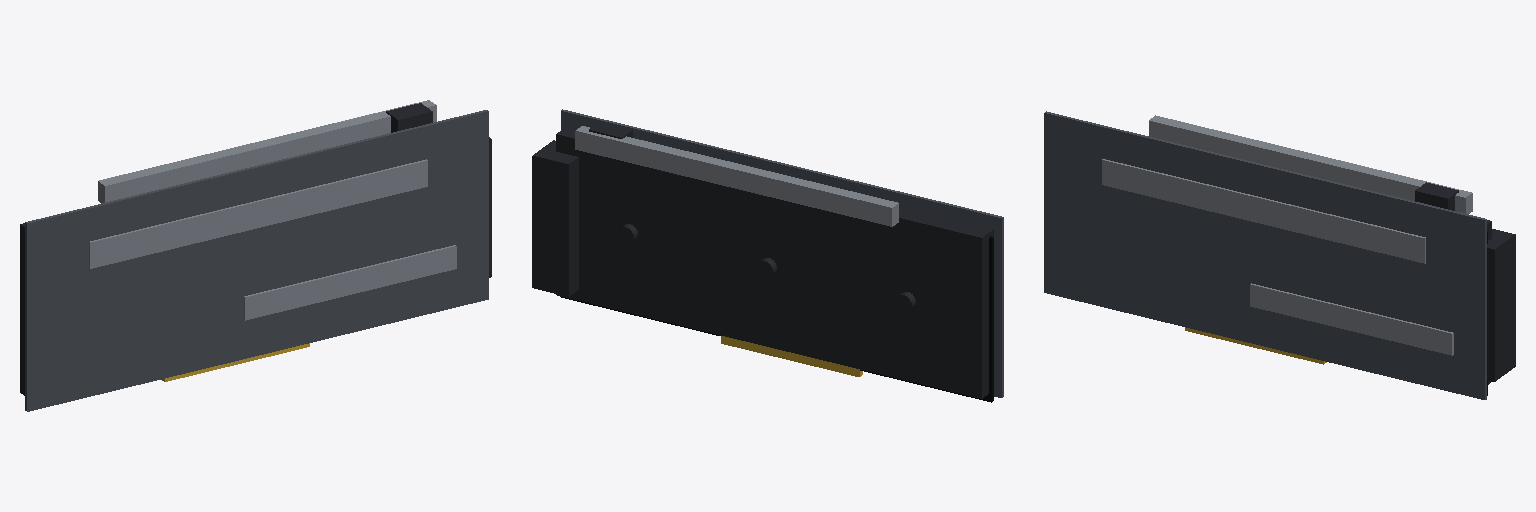
URDF robot description (graphics_card):
<robot name="graphics_card">
  <material name="shroud_graphite">
    <color rgba="0.14 0.15 0.16 1" />
    </material>
  <material name="fan_black">
    <color rgba="0.08 0.08 0.09 1" />
    </material>
  <material name="heatsink_dark">
    <color rgba="0.19 0.2 0.22 1" />
    </material>
  <material name="brushed_metal">
    <color rgba="0.62 0.64 0.68 1" />
    </material>
  <material name="backplate_metal">
    <color rgba="0.34 0.36 0.39 1" />
    </material>
  <material name="pcb_green">
    <color rgba="0.08 0.11 0.08 1" />
    </material>
  <material name="connector_gold">
    <color rgba="0.8 0.66 0.24 1" />
    </material>
  <material name="accent_silver">
    <color rgba="0.55 0.57 0.6 1" />
    </material>
  <link name="card_body">
    <inertial>
      <origin xyz="0 -0.002 0" rpy="0 0 0" />
      <mass value="1.35" />
      <inertia ixx="0.0018873" ixy="0" ixz="0" iyy="0.011911" iyz="0" izz="0.0102262" />
      </inertial>
    <visual>
      <origin xyz="0 0.004 0" rpy="0 0 0" />
      <geometry>
        <mesh filename="meshes/graphics_card_shroud.obj" />
        </geometry>
      <material name="shroud_graphite" />
      </visual>
    <visual>
      <origin xyz="0 -0.006 0" rpy="0 0 0" />
      <geometry>
        <box size="0.282 0.014 0.102" />
        </geometry>
      <material name="heatsink_dark" />
      </visual>
    <visual>
      <origin xyz="0 -0.0081 -0.004" rpy="0 0 0" />
      <geometry>
        <box size="0.286 0.0022 0.104" />
        </geometry>
      <material name="pcb_green" />
      </visual>
    <visual>
      <origin xyz="0 -0.0141 0.002" rpy="0 0 0" />
      <geometry>
        <box size="0.292 0.0022 0.114" />
        </geometry>
      <material name="backplate_metal" />
      </visual>
    <visual>
      <origin xyz="0 -0.0152 0.031" rpy="0 0 0" />
      <geometry>
        <box size="0.214 0.003 0.016" />
        </geometry>
      <material name="accent_silver" />
      </visual>
    <visual>
      <origin xyz="0.058 -0.0152 -0.024" rpy="0 0 0" />
      <geometry>
        <box size="0.134 0.003 0.014" />
        </geometry>
      <material name="accent_silver" />
      </visual>
    <visual>
      <origin xyz="0.018 0.006 0.055" rpy="0 0 0" />
      <geometry>
        <box size="0.21 0.008 0.012" />
        </geometry>
      <material name="accent_silver" />
      </visual>
    <visual>
      <origin xyz="0.105 0.0005 0.056" rpy="0 0 0" />
      <geometry>
        <box size="0.022 0.013 0.012" />
        </geometry>
      <material name="heatsink_dark" />
      </visual>
    <visual>
      <origin xyz="0.138 0.0005 -0.002" rpy="0 0 0" />
      <geometry>
        <box size="0.024 0.024 0.084" />
        </geometry>
      <material name="heatsink_dark" />
      </visual>
    <visual>
      <origin xyz="-0.01 -0.0081 -0.055" rpy="0 0 0" />
      <geometry>
        <box size="0.092 0.004 0.01" />
        </geometry>
      <material name="connector_gold" />
      </visual>
    <visual>
      <origin xyz="-0.092 -0.001 0" rpy="-1.5708 0 0" />
      <geometry>
        <cylinder radius="0.0055" length="0.014" />
        </geometry>
      <material name="heatsink_dark" />
      </visual>
    <visual>
      <origin xyz="0 -0.001 0" rpy="-1.5708 0 0" />
      <geometry>
        <cylinder radius="0.0055" length="0.014" />
        </geometry>
      <material name="heatsink_dark" />
      </visual>
    <visual>
      <origin xyz="0.092 -0.001 0" rpy="-1.5708 0 0" />
      <geometry>
        <cylinder radius="0.0055" length="0.014" />
        </geometry>
      <material name="heatsink_dark" />
      </visual>
    <collision name="card_body__visual_1__hull_001">
      <origin xyz="0 0.004 0" rpy="0 0 0" />
      <geometry>
        <mesh filename="meshes/collision/cache/graphics_card_shroud__4e14d90d67d21ff0__hull_001.obj" />
        </geometry>
      </collision>
    <collision name="card_body__visual_2">
      <origin xyz="0 -0.006 0" rpy="0 0 0" />
      <geometry>
        <box size="0.282 0.014 0.102" />
        </geometry>
      </collision>
    <collision name="card_body__visual_3">
      <origin xyz="0 -0.0081 -0.004" rpy="0 0 0" />
      <geometry>
        <box size="0.286 0.0022 0.104" />
        </geometry>
      </collision>
    <collision name="card_body__visual_4">
      <origin xyz="0 -0.0141 0.002" rpy="0 0 0" />
      <geometry>
        <box size="0.292 0.0022 0.114" />
        </geometry>
      </collision>
    <collision name="card_body__visual_5">
      <origin xyz="0 -0.0152 0.031" rpy="0 0 0" />
      <geometry>
        <box size="0.214 0.003 0.016" />
        </geometry>
      </collision>
    <collision name="card_body__visual_6">
      <origin xyz="0.058 -0.0152 -0.024" rpy="0 0 0" />
      <geometry>
        <box size="0.134 0.003 0.014" />
        </geometry>
      </collision>
    <collision name="card_body__visual_7">
      <origin xyz="0.018 0.006 0.055" rpy="0 0 0" />
      <geometry>
        <box size="0.21 0.008 0.012" />
        </geometry>
      </collision>
    <collision name="card_body__visual_8">
      <origin xyz="0.105 0.0005 0.056" rpy="0 0 0" />
      <geometry>
        <box size="0.022 0.013 0.012" />
        </geometry>
      </collision>
    <collision name="card_body__visual_9">
      <origin xyz="0.138 0.0005 -0.002" rpy="0 0 0" />
      <geometry>
        <box size="0.024 0.024 0.084" />
        </geometry>
      </collision>
    <collision name="card_body__visual_10">
      <origin xyz="-0.01 -0.0081 -0.055" rpy="0 0 0" />
      <geometry>
        <box size="0.092 0.004 0.01" />
        </geometry>
      </collision>
    <collision name="card_body__visual_11">
      <origin xyz="-0.092 -0.001 0" rpy="-1.5708 0 0" />
      <geometry>
        <cylinder radius="0.0055" length="0.014" />
        </geometry>
      </collision>
    <collision name="card_body__visual_12">
      <origin xyz="0 -0.001 0" rpy="-1.5708 0 0" />
      <geometry>
        <cylinder radius="0.0055" length="0.014" />
        </geometry>
      </collision>
    <collision name="card_body__visual_13">
      <origin xyz="0.092 -0.001 0" rpy="-1.5708 0 0" />
      <geometry>
        <cylinder radius="0.0055" length="0.014" />
        </geometry>
      </collision>
    </link>
  <link name="io_bracket">
    <inertial>
      <mass value="0.08" />
      <inertia ixx="0.000100507" ixy="0" ixz="0" iyy="9.60267e-05" iyz="0" izz="4.53333e-06" />
      </inertial>
    <visual>
      <geometry>
        <mesh filename="meshes/graphics_card_bracket.obj" />
        </geometry>
      <material name="brushed_metal" />
      </visual>
    <collision name="io_bracket__visual_1__hull_001">
      <geometry>
        <mesh filename="meshes/collision/cache/graphics_card_bracket__cac1435064bebe9e__hull_001.obj" />
        </geometry>
      </collision>
    <collision name="io_bracket__visual_1__hull_002">
      <geometry>
        <mesh filename="meshes/collision/cache/graphics_card_bracket__cac1435064bebe9e__hull_002.obj" />
        </geometry>
      </collision>
    <collision name="io_bracket__visual_1__hull_003">
      <geometry>
        <mesh filename="meshes/collision/cache/graphics_card_bracket__cac1435064bebe9e__hull_003.obj" />
        </geometry>
      </collision>
    <collision name="io_bracket__visual_1__hull_004">
      <geometry>
        <mesh filename="meshes/collision/cache/graphics_card_bracket__cac1435064bebe9e__hull_004.obj" />
        </geometry>
      </collision>
    <collision name="io_bracket__visual_1__hull_005">
      <geometry>
        <mesh filename="meshes/collision/cache/graphics_card_bracket__cac1435064bebe9e__hull_005.obj" />
        </geometry>
      </collision>
    <collision name="io_bracket__visual_1__hull_006">
      <geometry>
        <mesh filename="meshes/collision/cache/graphics_card_bracket__cac1435064bebe9e__hull_006.obj" />
        </geometry>
      </collision>
    <collision name="io_bracket__visual_1__hull_007">
      <geometry>
        <mesh filename="meshes/collision/cache/graphics_card_bracket__cac1435064bebe9e__hull_007.obj" />
        </geometry>
      </collision>
    <collision name="io_bracket__visual_1__hull_008">
      <geometry>
        <mesh filename="meshes/collision/cache/graphics_card_bracket__cac1435064bebe9e__hull_008.obj" />
        </geometry>
      </collision>
    </link>
  <link name="fan_left">
    <inertial>
      <origin xyz="0 0 0" rpy="-1.5708 0 0" />
      <mass value="0.05" />
      <inertia ixx="2.08406e-05" ixy="0" ixz="0" iyy="2.08406e-05" iyz="0" izz="4.10063e-05" />
      </inertial>
    <visual>
      <geometry>
        <mesh filename="meshes/graphics_card_fan.obj" />
        </geometry>
      <material name="fan_black" />
      </visual>
    <collision name="fan_left__visual_1__hull_001">
      <geometry>
        <mesh filename="meshes/collision/cache/graphics_card_fan__be805ed2de82bf0e__hull_001.obj" />
        </geometry>
      </collision>
    <collision name="fan_left__visual_1__hull_002">
      <geometry>
        <mesh filename="meshes/collision/cache/graphics_card_fan__be805ed2de82bf0e__hull_002.obj" />
        </geometry>
      </collision>
    <collision name="fan_left__visual_1__hull_003">
      <geometry>
        <mesh filename="meshes/collision/cache/graphics_card_fan__be805ed2de82bf0e__hull_003.obj" />
        </geometry>
      </collision>
    <collision name="fan_left__visual_1__hull_004">
      <geometry>
        <mesh filename="meshes/collision/cache/graphics_card_fan__be805ed2de82bf0e__hull_004.obj" />
        </geometry>
      </collision>
    <collision name="fan_left__visual_1__hull_005">
      <geometry>
        <mesh filename="meshes/collision/cache/graphics_card_fan__be805ed2de82bf0e__hull_005.obj" />
        </geometry>
      </collision>
    <collision name="fan_left__visual_1__hull_006">
      <geometry>
        <mesh filename="meshes/collision/cache/graphics_card_fan__be805ed2de82bf0e__hull_006.obj" />
        </geometry>
      </collision>
    <collision name="fan_left__visual_1__hull_007">
      <geometry>
        <mesh filename="meshes/collision/cache/graphics_card_fan__be805ed2de82bf0e__hull_007.obj" />
        </geometry>
      </collision>
    <collision name="fan_left__visual_1__hull_008">
      <geometry>
        <mesh filename="meshes/collision/cache/graphics_card_fan__be805ed2de82bf0e__hull_008.obj" />
        </geometry>
      </collision>
    <collision name="fan_left__visual_1__hull_009">
      <geometry>
        <mesh filename="meshes/collision/cache/graphics_card_fan__be805ed2de82bf0e__hull_009.obj" />
        </geometry>
      </collision>
    <collision name="fan_left__visual_1__hull_010">
      <geometry>
        <mesh filename="meshes/collision/cache/graphics_card_fan__be805ed2de82bf0e__hull_010.obj" />
        </geometry>
      </collision>
    <collision name="fan_left__visual_1__hull_011">
      <geometry>
        <mesh filename="meshes/collision/cache/graphics_card_fan__be805ed2de82bf0e__hull_011.obj" />
        </geometry>
      </collision>
    <collision name="fan_left__visual_1__hull_012">
      <geometry>
        <mesh filename="meshes/collision/cache/graphics_card_fan__be805ed2de82bf0e__hull_012.obj" />
        </geometry>
      </collision>
    <collision name="fan_left__visual_1__hull_013">
      <geometry>
        <mesh filename="meshes/collision/cache/graphics_card_fan__be805ed2de82bf0e__hull_013.obj" />
        </geometry>
      </collision>
    <collision name="fan_left__visual_1__hull_014">
      <geometry>
        <mesh filename="meshes/collision/cache/graphics_card_fan__be805ed2de82bf0e__hull_014.obj" />
        </geometry>
      </collision>
    <collision name="fan_left__visual_1__hull_015">
      <geometry>
        <mesh filename="meshes/collision/cache/graphics_card_fan__be805ed2de82bf0e__hull_015.obj" />
        </geometry>
      </collision>
    <collision name="fan_left__visual_1__hull_016">
      <geometry>
        <mesh filename="meshes/collision/cache/graphics_card_fan__be805ed2de82bf0e__hull_016.obj" />
        </geometry>
      </collision>
    </link>
  <link name="fan_center">
    <inertial>
      <origin xyz="0 0 0" rpy="-1.5708 0 0" />
      <mass value="0.05" />
      <inertia ixx="2.08406e-05" ixy="0" ixz="0" iyy="2.08406e-05" iyz="0" izz="4.10063e-05" />
      </inertial>
    <visual>
      <geometry>
        <mesh filename="meshes/graphics_card_fan.obj" />
        </geometry>
      <material name="fan_black" />
      </visual>
    <collision name="fan_center__visual_1__hull_001">
      <geometry>
        <mesh filename="meshes/collision/cache/graphics_card_fan__be805ed2de82bf0e__hull_001.obj" />
        </geometry>
      </collision>
    <collision name="fan_center__visual_1__hull_002">
      <geometry>
        <mesh filename="meshes/collision/cache/graphics_card_fan__be805ed2de82bf0e__hull_002.obj" />
        </geometry>
      </collision>
    <collision name="fan_center__visual_1__hull_003">
      <geometry>
        <mesh filename="meshes/collision/cache/graphics_card_fan__be805ed2de82bf0e__hull_003.obj" />
        </geometry>
      </collision>
    <collision name="fan_center__visual_1__hull_004">
      <geometry>
        <mesh filename="meshes/collision/cache/graphics_card_fan__be805ed2de82bf0e__hull_004.obj" />
        </geometry>
      </collision>
    <collision name="fan_center__visual_1__hull_005">
      <geometry>
        <mesh filename="meshes/collision/cache/graphics_card_fan__be805ed2de82bf0e__hull_005.obj" />
        </geometry>
      </collision>
    <collision name="fan_center__visual_1__hull_006">
      <geometry>
        <mesh filename="meshes/collision/cache/graphics_card_fan__be805ed2de82bf0e__hull_006.obj" />
        </geometry>
      </collision>
    <collision name="fan_center__visual_1__hull_007">
      <geometry>
        <mesh filename="meshes/collision/cache/graphics_card_fan__be805ed2de82bf0e__hull_007.obj" />
        </geometry>
      </collision>
    <collision name="fan_center__visual_1__hull_008">
      <geometry>
        <mesh filename="meshes/collision/cache/graphics_card_fan__be805ed2de82bf0e__hull_008.obj" />
        </geometry>
      </collision>
    <collision name="fan_center__visual_1__hull_009">
      <geometry>
        <mesh filename="meshes/collision/cache/graphics_card_fan__be805ed2de82bf0e__hull_009.obj" />
        </geometry>
      </collision>
    <collision name="fan_center__visual_1__hull_010">
      <geometry>
        <mesh filename="meshes/collision/cache/graphics_card_fan__be805ed2de82bf0e__hull_010.obj" />
        </geometry>
      </collision>
    <collision name="fan_center__visual_1__hull_011">
      <geometry>
        <mesh filename="meshes/collision/cache/graphics_card_fan__be805ed2de82bf0e__hull_011.obj" />
        </geometry>
      </collision>
    <collision name="fan_center__visual_1__hull_012">
      <geometry>
        <mesh filename="meshes/collision/cache/graphics_card_fan__be805ed2de82bf0e__hull_012.obj" />
        </geometry>
      </collision>
    <collision name="fan_center__visual_1__hull_013">
      <geometry>
        <mesh filename="meshes/collision/cache/graphics_card_fan__be805ed2de82bf0e__hull_013.obj" />
        </geometry>
      </collision>
    <collision name="fan_center__visual_1__hull_014">
      <geometry>
        <mesh filename="meshes/collision/cache/graphics_card_fan__be805ed2de82bf0e__hull_014.obj" />
        </geometry>
      </collision>
    <collision name="fan_center__visual_1__hull_015">
      <geometry>
        <mesh filename="meshes/collision/cache/graphics_card_fan__be805ed2de82bf0e__hull_015.obj" />
        </geometry>
      </collision>
    <collision name="fan_center__visual_1__hull_016">
      <geometry>
        <mesh filename="meshes/collision/cache/graphics_card_fan__be805ed2de82bf0e__hull_016.obj" />
        </geometry>
      </collision>
    </link>
  <link name="fan_right">
    <inertial>
      <origin xyz="0 0 0" rpy="-1.5708 0 0" />
      <mass value="0.05" />
      <inertia ixx="2.08406e-05" ixy="0" ixz="0" iyy="2.08406e-05" iyz="0" izz="4.10063e-05" />
      </inertial>
    <visual>
      <geometry>
        <mesh filename="meshes/graphics_card_fan.obj" />
        </geometry>
      <material name="fan_black" />
      </visual>
    <collision name="fan_right__visual_1__hull_001">
      <geometry>
        <mesh filename="meshes/collision/cache/graphics_card_fan__be805ed2de82bf0e__hull_001.obj" />
        </geometry>
      </collision>
    <collision name="fan_right__visual_1__hull_002">
      <geometry>
        <mesh filename="meshes/collision/cache/graphics_card_fan__be805ed2de82bf0e__hull_002.obj" />
        </geometry>
      </collision>
    <collision name="fan_right__visual_1__hull_003">
      <geometry>
        <mesh filename="meshes/collision/cache/graphics_card_fan__be805ed2de82bf0e__hull_003.obj" />
        </geometry>
      </collision>
    <collision name="fan_right__visual_1__hull_004">
      <geometry>
        <mesh filename="meshes/collision/cache/graphics_card_fan__be805ed2de82bf0e__hull_004.obj" />
        </geometry>
      </collision>
    <collision name="fan_right__visual_1__hull_005">
      <geometry>
        <mesh filename="meshes/collision/cache/graphics_card_fan__be805ed2de82bf0e__hull_005.obj" />
        </geometry>
      </collision>
    <collision name="fan_right__visual_1__hull_006">
      <geometry>
        <mesh filename="meshes/collision/cache/graphics_card_fan__be805ed2de82bf0e__hull_006.obj" />
        </geometry>
      </collision>
    <collision name="fan_right__visual_1__hull_007">
      <geometry>
        <mesh filename="meshes/collision/cache/graphics_card_fan__be805ed2de82bf0e__hull_007.obj" />
        </geometry>
      </collision>
    <collision name="fan_right__visual_1__hull_008">
      <geometry>
        <mesh filename="meshes/collision/cache/graphics_card_fan__be805ed2de82bf0e__hull_008.obj" />
        </geometry>
      </collision>
    <collision name="fan_right__visual_1__hull_009">
      <geometry>
        <mesh filename="meshes/collision/cache/graphics_card_fan__be805ed2de82bf0e__hull_009.obj" />
        </geometry>
      </collision>
    <collision name="fan_right__visual_1__hull_010">
      <geometry>
        <mesh filename="meshes/collision/cache/graphics_card_fan__be805ed2de82bf0e__hull_010.obj" />
        </geometry>
      </collision>
    <collision name="fan_right__visual_1__hull_011">
      <geometry>
        <mesh filename="meshes/collision/cache/graphics_card_fan__be805ed2de82bf0e__hull_011.obj" />
        </geometry>
      </collision>
    <collision name="fan_right__visual_1__hull_012">
      <geometry>
        <mesh filename="meshes/collision/cache/graphics_card_fan__be805ed2de82bf0e__hull_012.obj" />
        </geometry>
      </collision>
    <collision name="fan_right__visual_1__hull_013">
      <geometry>
        <mesh filename="meshes/collision/cache/graphics_card_fan__be805ed2de82bf0e__hull_013.obj" />
        </geometry>
      </collision>
    <collision name="fan_right__visual_1__hull_014">
      <geometry>
        <mesh filename="meshes/collision/cache/graphics_card_fan__be805ed2de82bf0e__hull_014.obj" />
        </geometry>
      </collision>
    <collision name="fan_right__visual_1__hull_015">
      <geometry>
        <mesh filename="meshes/collision/cache/graphics_card_fan__be805ed2de82bf0e__hull_015.obj" />
        </geometry>
      </collision>
    <collision name="fan_right__visual_1__hull_016">
      <geometry>
        <mesh filename="meshes/collision/cache/graphics_card_fan__be805ed2de82bf0e__hull_016.obj" />
        </geometry>
      </collision>
    </link>
  <joint name="body_to_io_bracket" type="fixed">
    <origin xyz="-0.151 0 0" rpy="0 0 0" />
    <parent link="card_body" />
    <child link="io_bracket" />
    </joint>
  <joint name="body_to_fan_left" type="continuous">
    <origin xyz="-0.092 0.004 0" rpy="0 0 0" />
    <parent link="card_body" />
    <child link="fan_left" />
    <axis xyz="0 1 0" />
    <limit effort="0.2" velocity="220" />
    </joint>
  <joint name="body_to_fan_center" type="continuous">
    <origin xyz="0 0.004 0" rpy="0 0 0" />
    <parent link="card_body" />
    <child link="fan_center" />
    <axis xyz="0 1 0" />
    <limit effort="0.2" velocity="220" />
    </joint>
  <joint name="body_to_fan_right" type="continuous">
    <origin xyz="0.092 0.004 0" rpy="0 0 0" />
    <parent link="card_body" />
    <child link="fan_right" />
    <axis xyz="0 1 0" />
    <limit effort="0.2" velocity="220" />
    </joint>
  </robot>

--- Render facts (derived) ---
3 views of the same robot in one strip: view 1: azimuth 30°, elevation 25°; view 2: azimuth 150°, elevation 25°; view 3: azimuth 330°, elevation 25° (orthographic).
Model graphics_card with 5 links and 4 joints (3 continuous, 1 fixed), rooted at card_body, posed all joints at 0.
Links seen in each view (by area): view 1: card_body; view 2: card_body; view 3: card_body.
Link boxes in pixels (left/top/right/bottom): card_body: left=20, top=100, right=491, bottom=411; card_body: left=532, top=109, right=1003, bottom=402; card_body: left=1044, top=111, right=1515, bottom=399.
Size in the robot's own frame: 0.296 by 0.0292 by 0.122 metres.
Meshes: 3 distinct files referenced, 0 mesh visuals loaded (none loaded); not drawn: 5 (reference not matched to a file when rendering).
